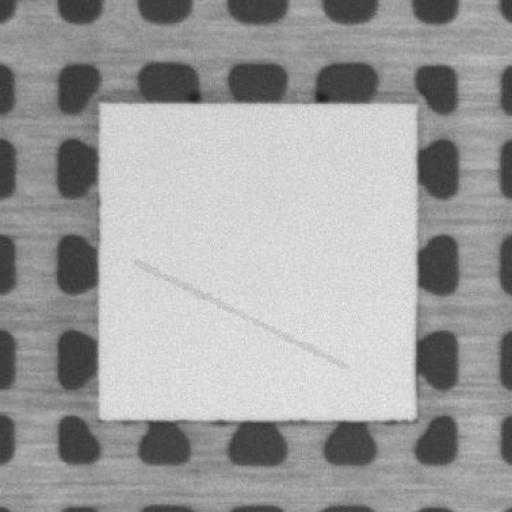DIE_CRACK: (135, 261, 345, 367)
